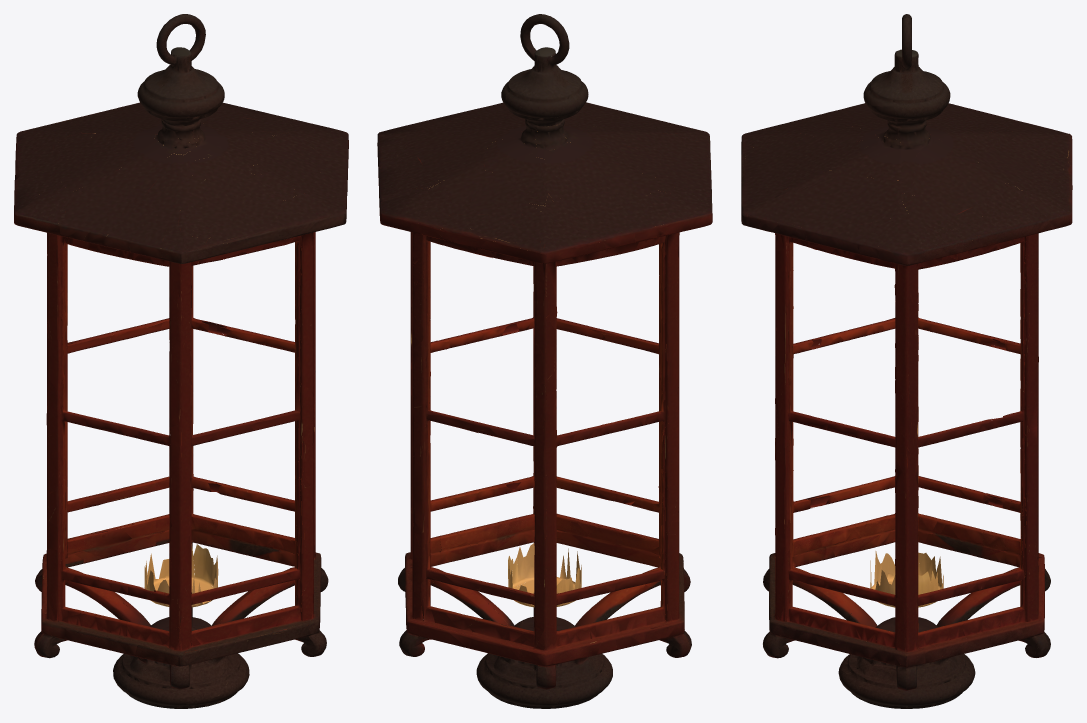
The model's file is room-lantern.glb.
The picture shows the model from 3 angles, left to right: view 1: azimuth 30°, elevation 25°; view 2: azimuth 150°, elevation 25°; view 3: azimuth 270°, elevation 25°; orthographic projection.
Visible parts, largest first — view 1: room lantern bronze body; view 2: room lantern bronze body; view 3: room lantern bronze body.
Part boxes in pixels (<box>): room lantern bronze body: <box>14,14,348,708</box>; room lantern bronze body: <box>377,14,712,708</box>; room lantern bronze body: <box>741,14,1072,708</box>.
Size of the model in its own units: 0.5213 by 1 by 0.4498.
1 material, 1 textured.
